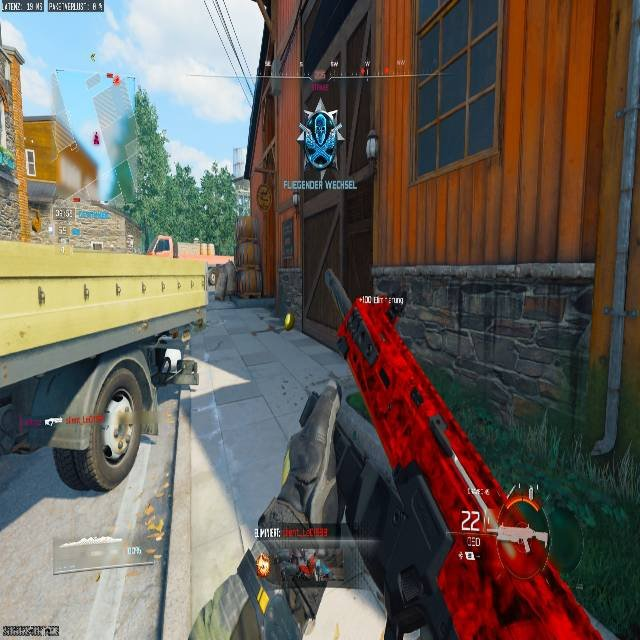player: (298, 104, 343, 187)
